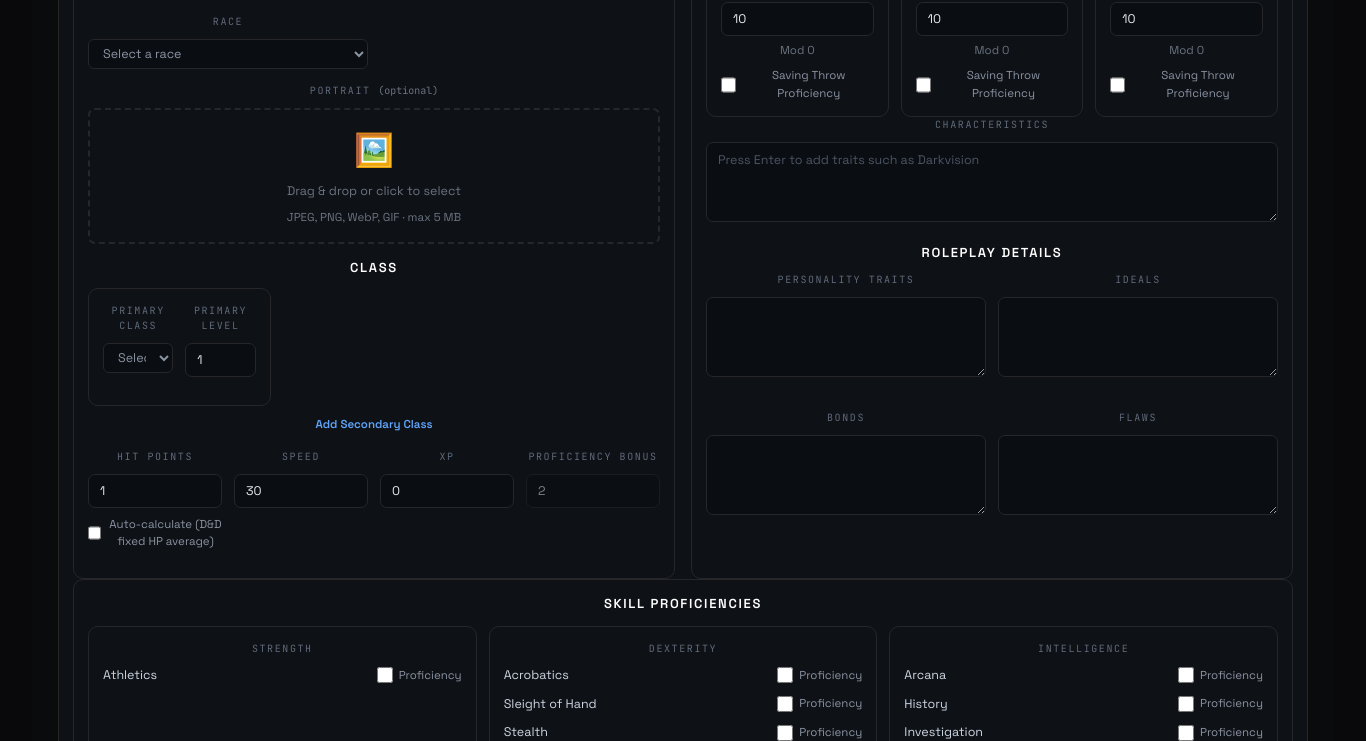
Test case: CreateCharacter › auto-sets XP to the minimum for the current total level in create mode
(page scrolled)
Select "Wizard" in the dropdown labelled "Primary Class": (138, 358) [103,343,173,373]
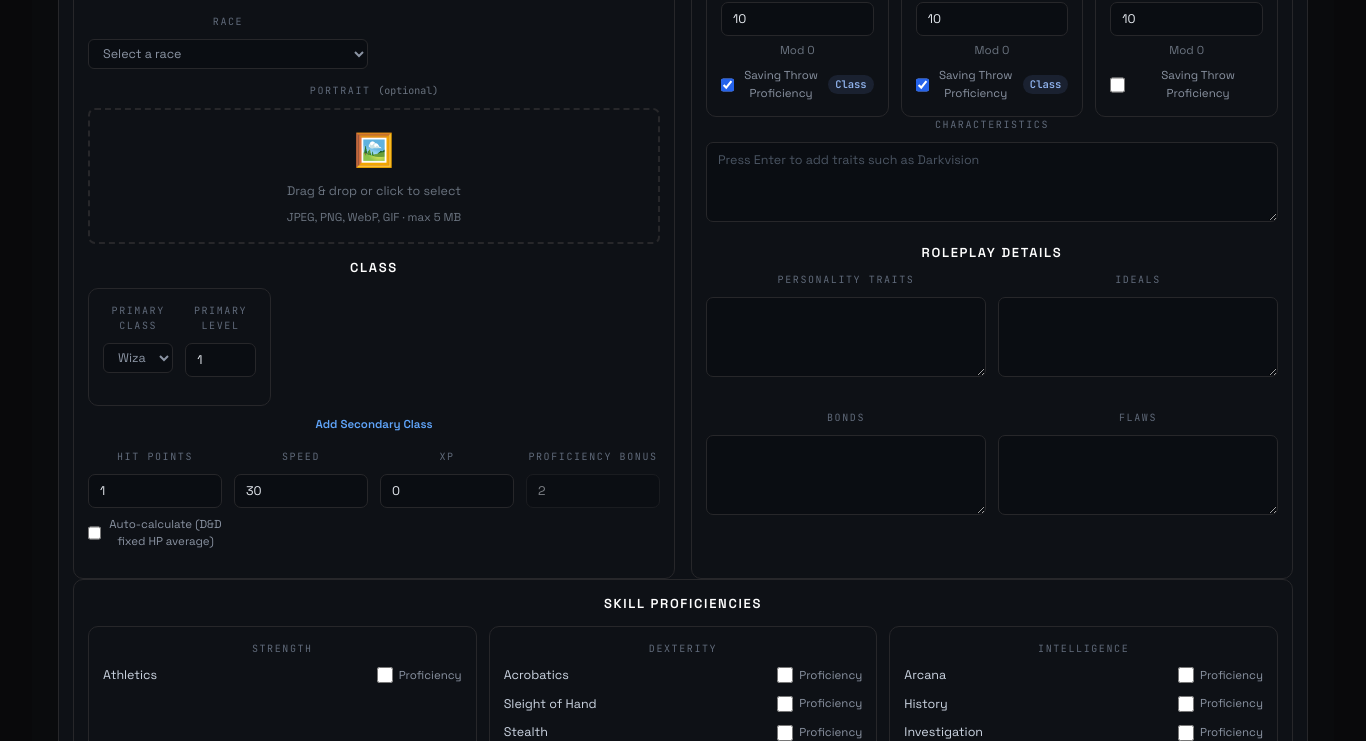
Replace the text in the number field labelled "Primary Level" with "3": (220, 360) [185,343,256,377]
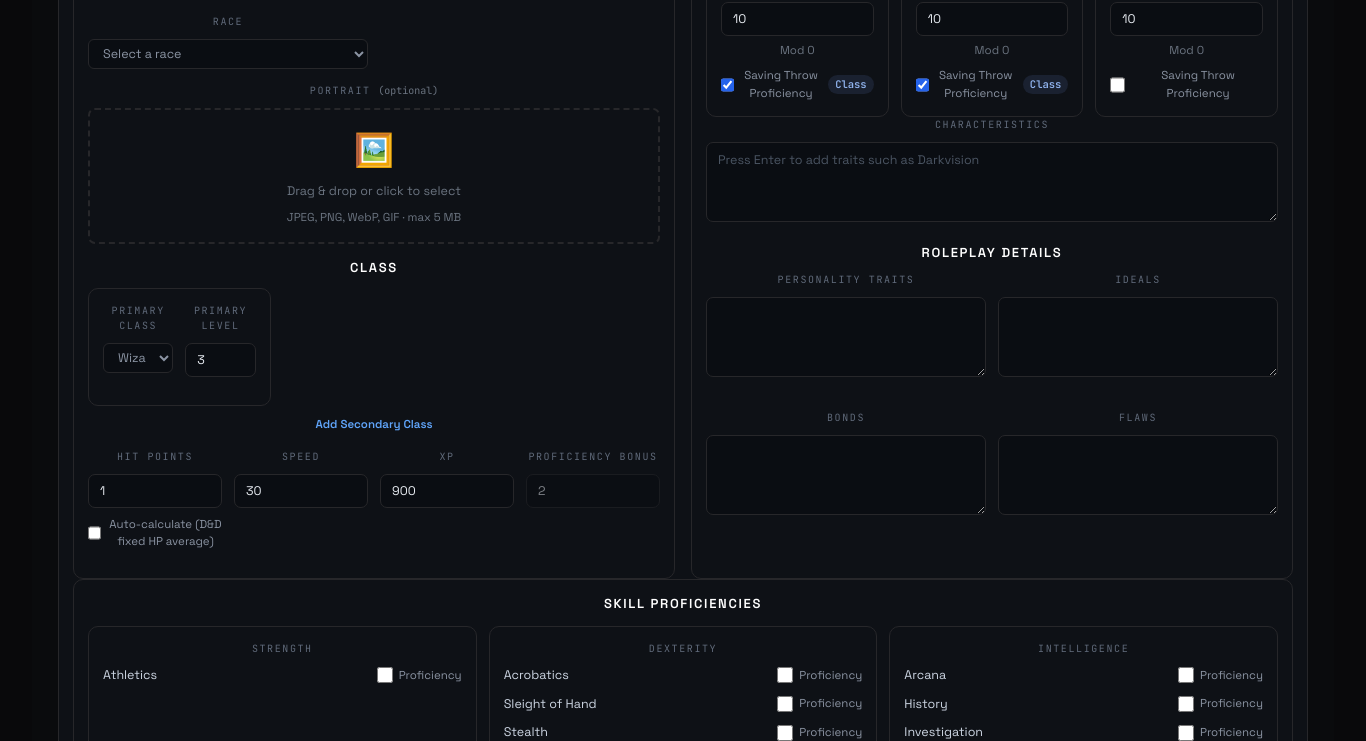
Check: the number field labelled "XP" holds "900"
Note: manually raise XP above the minimum — should not be overwritten
Replace the text in the number field labelled "XP" with "1200": (447, 491) [380,474,514,508]
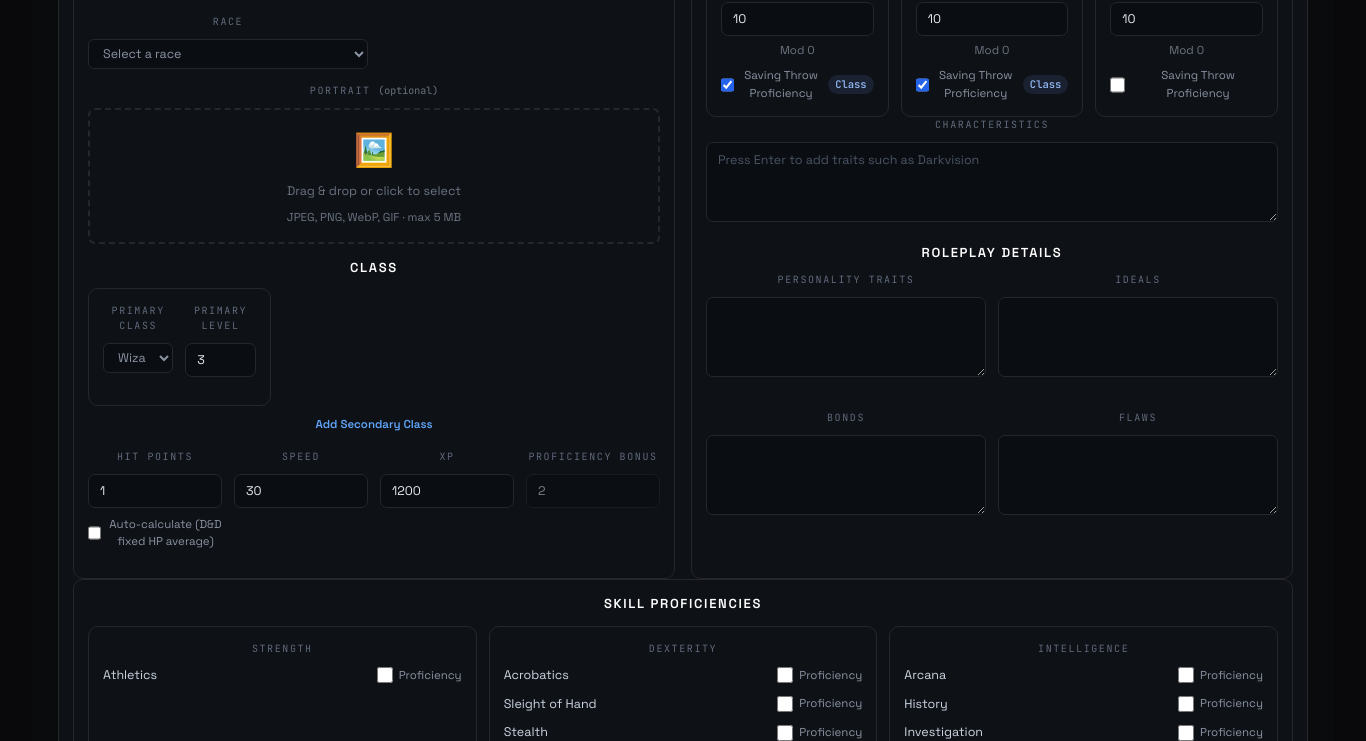
Replace the text in the number field labelled "Primary Level" with "4": (220, 360) [185,343,256,377]
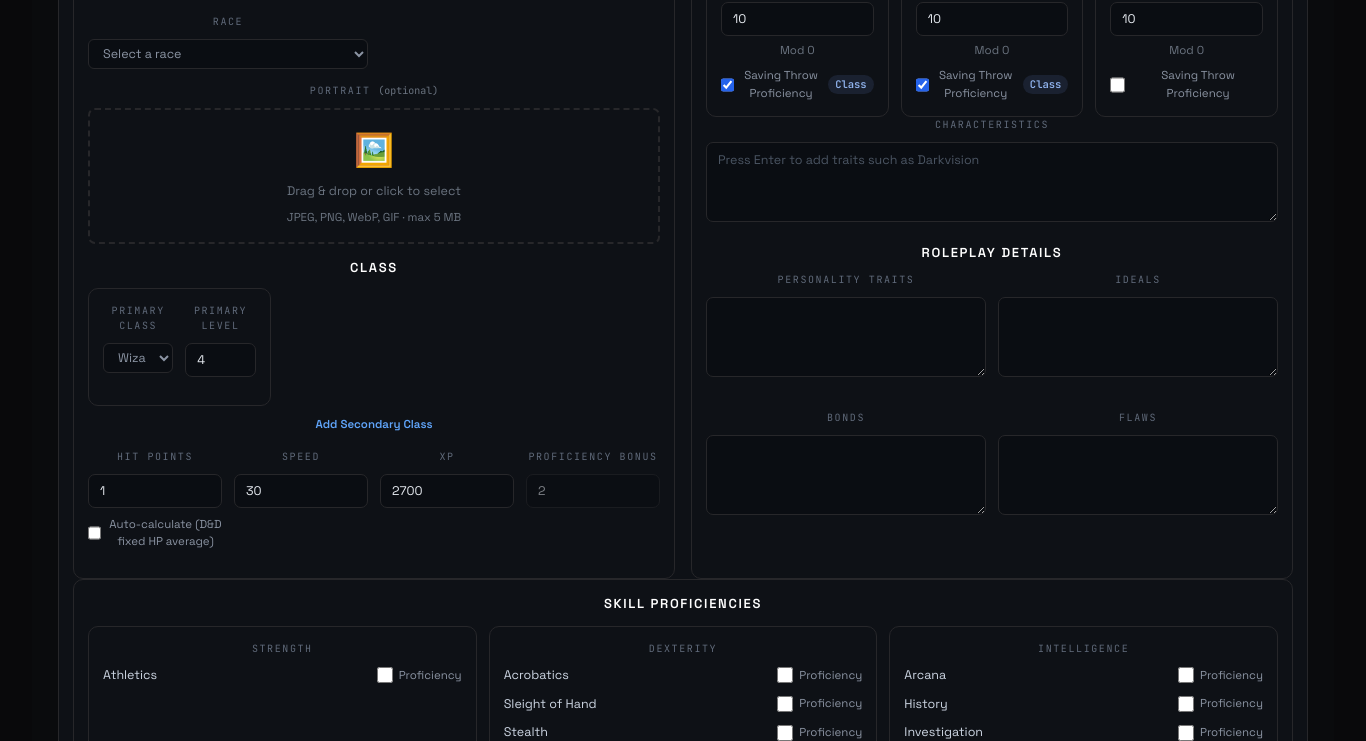
Check: the number field labelled "XP" holds "2700", box [380,474,514,508]
